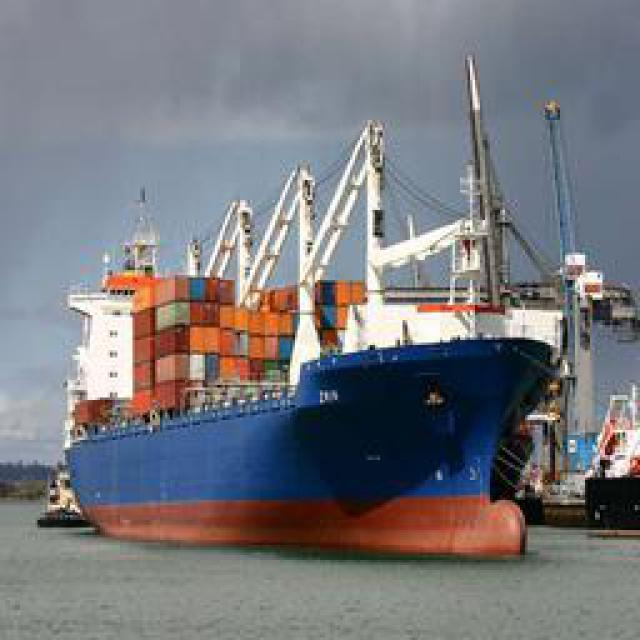Ship: (56, 64, 566, 554)
